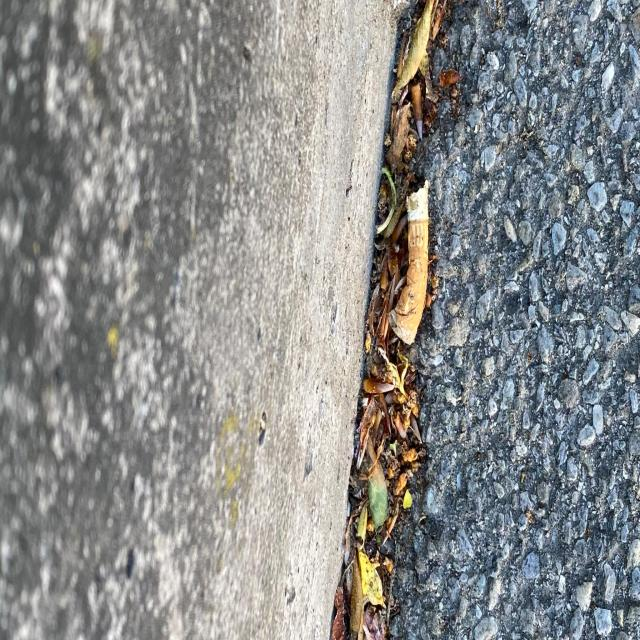other waste: (387, 177, 429, 347)
